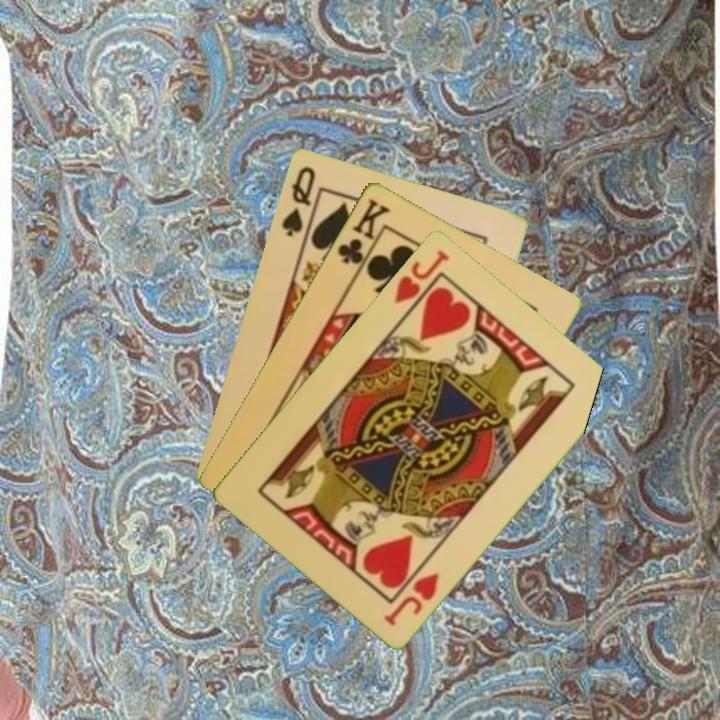Jh: (390, 245, 452, 307), (379, 569, 442, 629)
Kc: (333, 194, 393, 277)
Qs: (278, 162, 318, 240)
